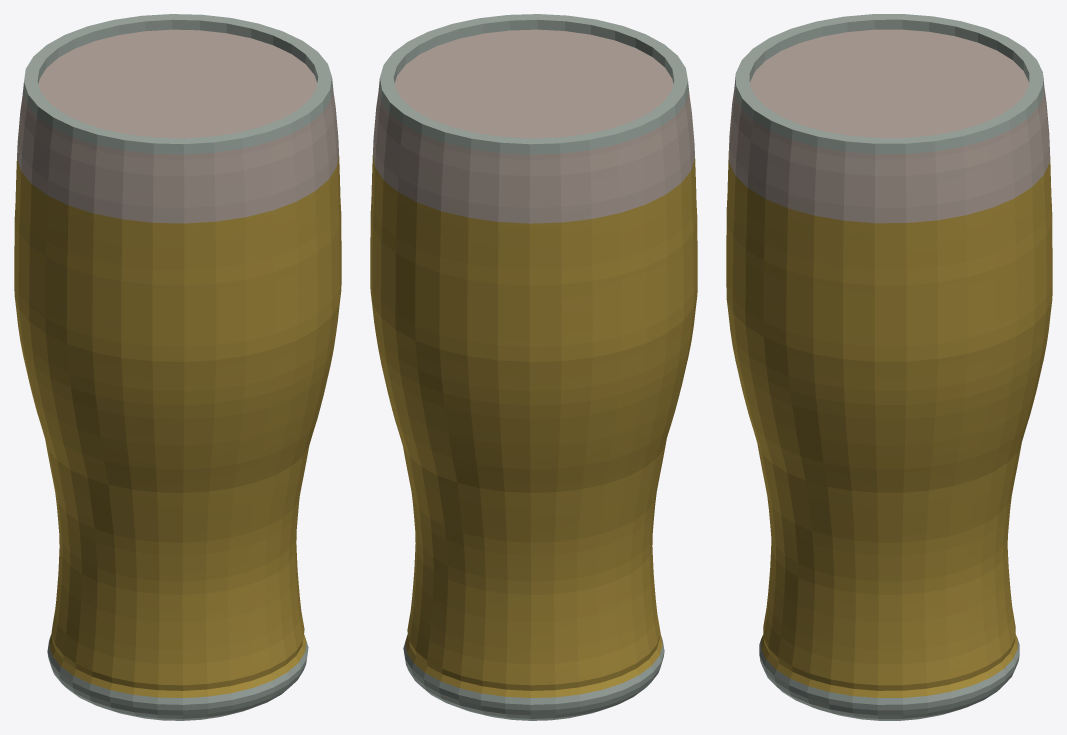
File: igftt_beer.gltf
3 renders of one model, left to right at view 1: azimuth 30°, elevation 25°; view 2: azimuth 150°, elevation 25°; view 3: azimuth 270°, elevation 25°, orthographic.
Parts seen in each view (by area): view 1: Cylinder.005; view 2: Cylinder.005; view 3: Cylinder.005.
Boxes of the visible parts, x1,y1,x2,y2 form: Cylinder.005: (14,14,341,720); Cylinder.005: (370,14,697,720); Cylinder.005: (726,14,1052,720).
Size of the model in its own units: 0.1773 by 0.3599 by 0.1773.
